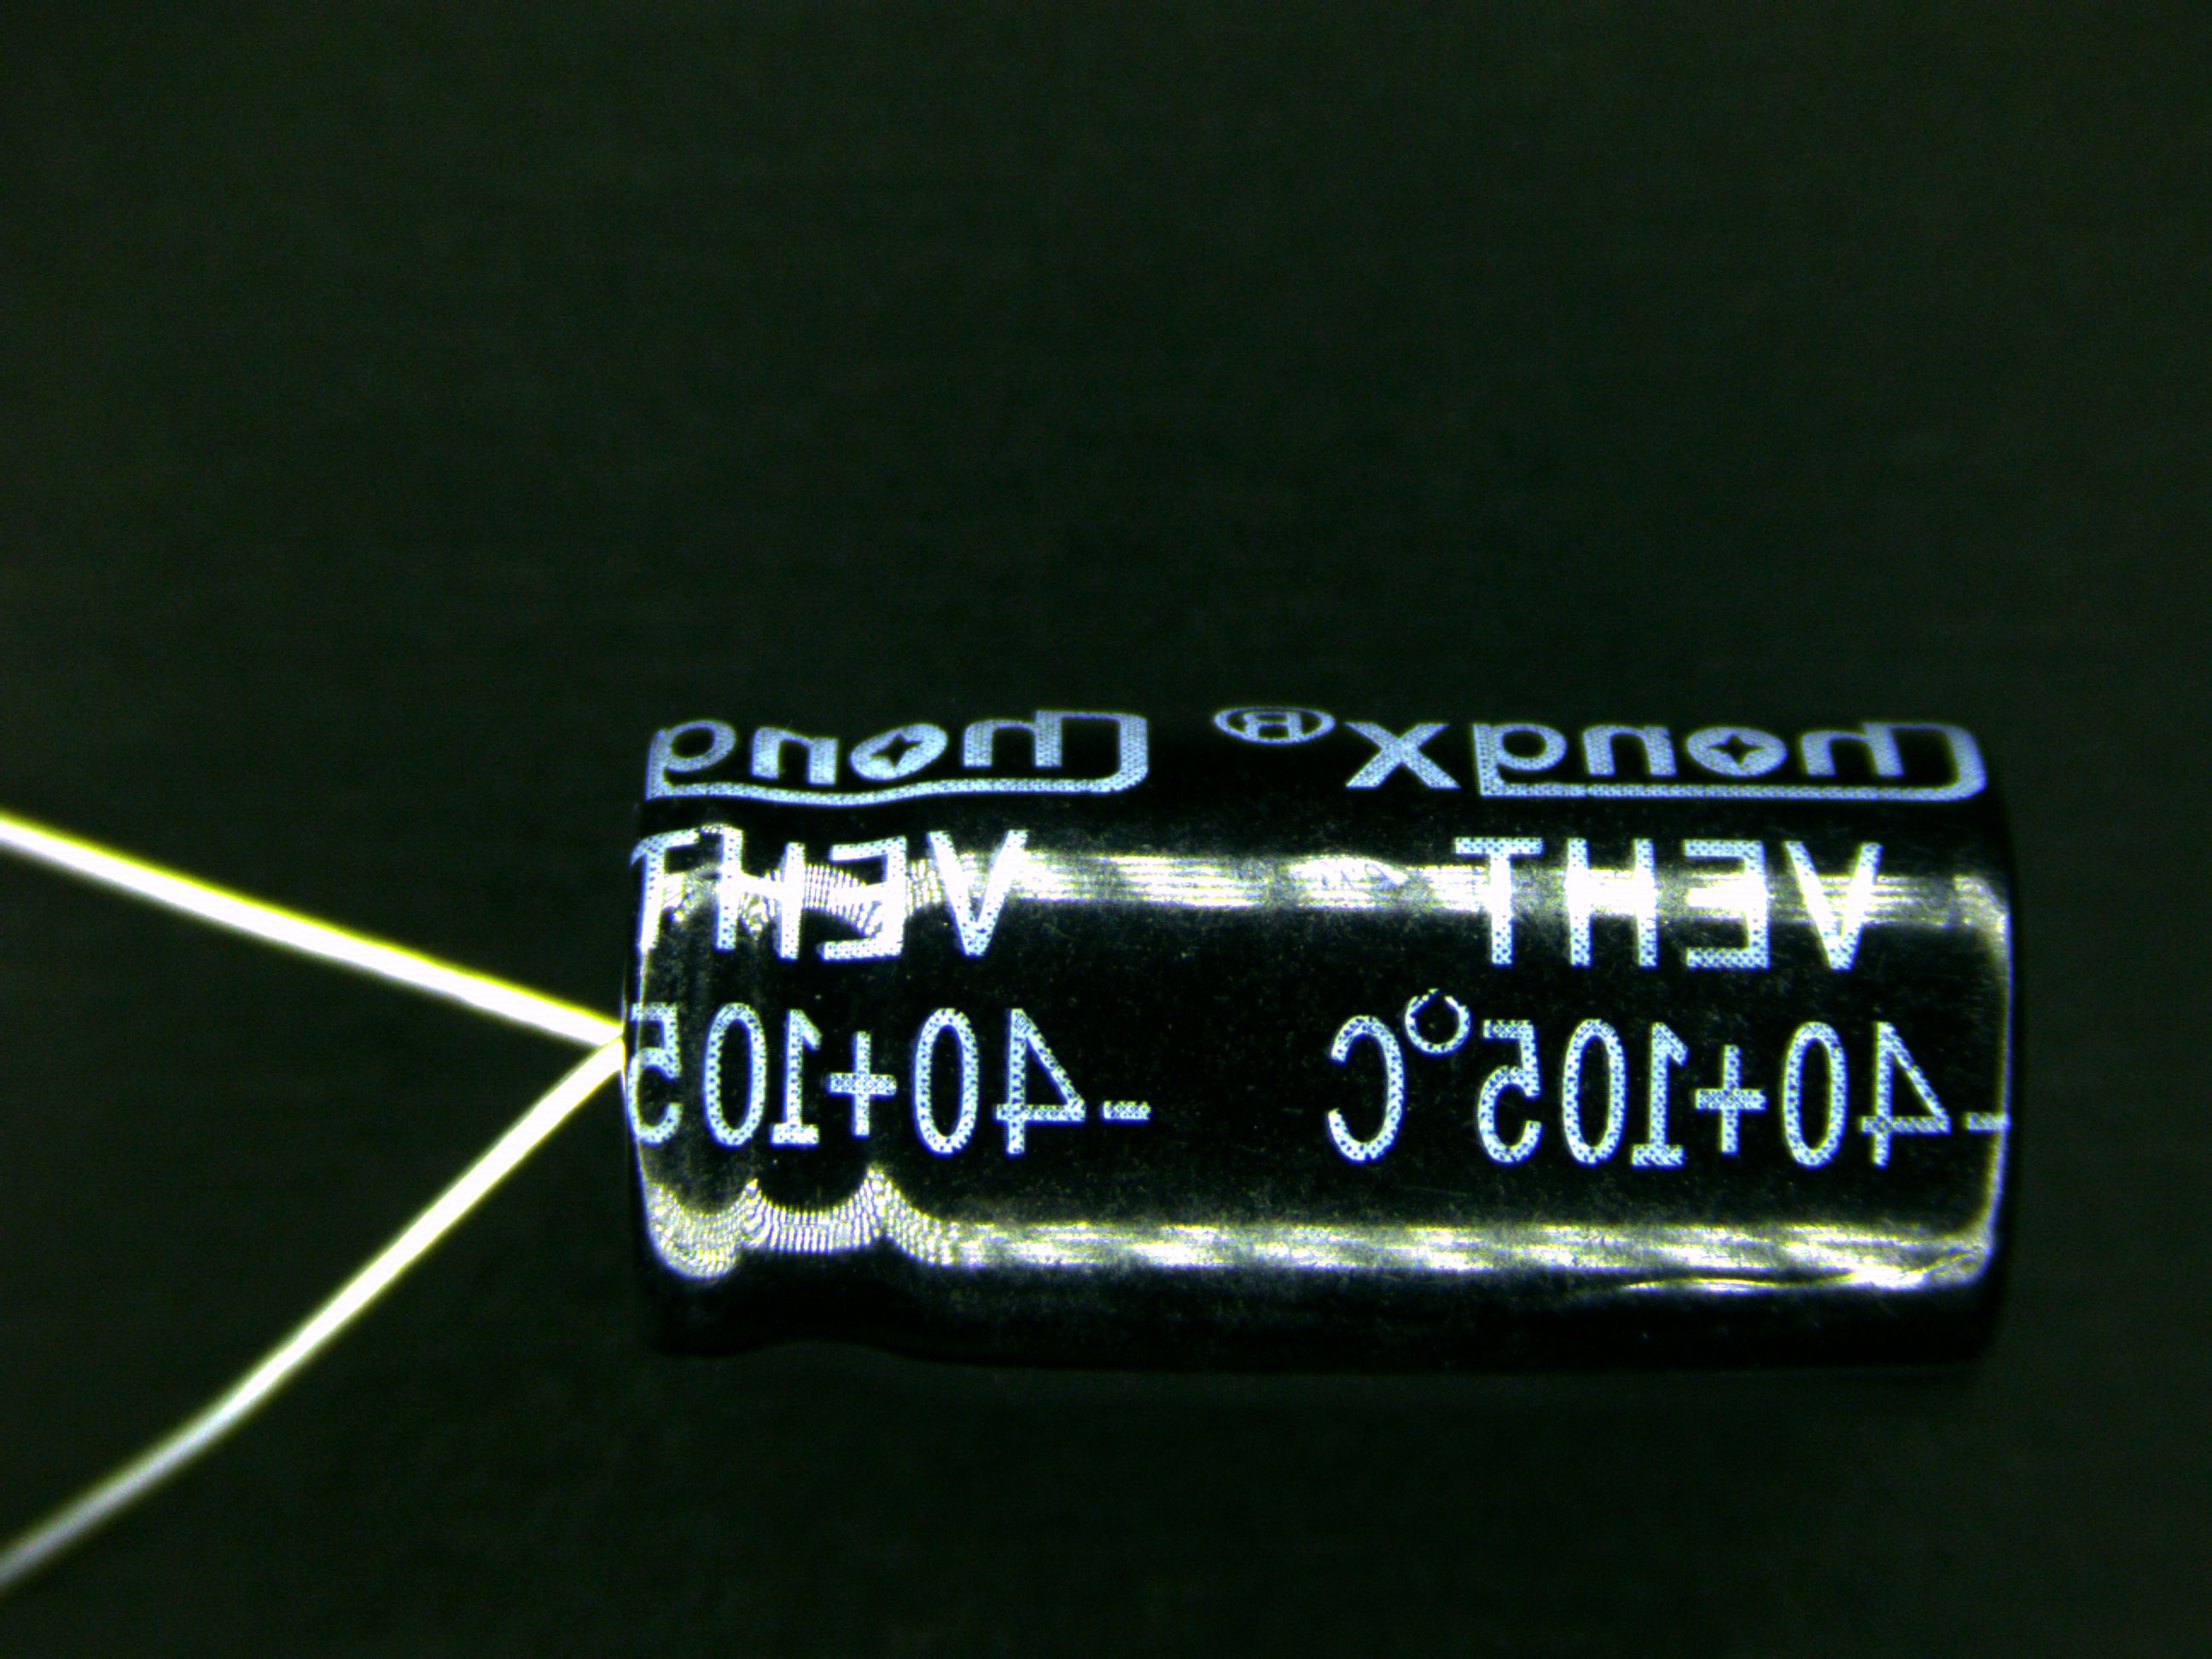c3: (322, 709, 2029, 1363)
